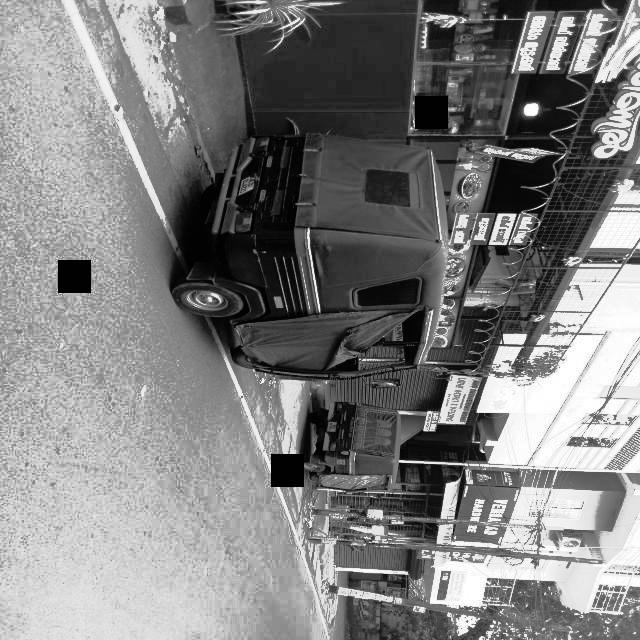Auto-Rickshaw: (164, 132, 449, 397)
